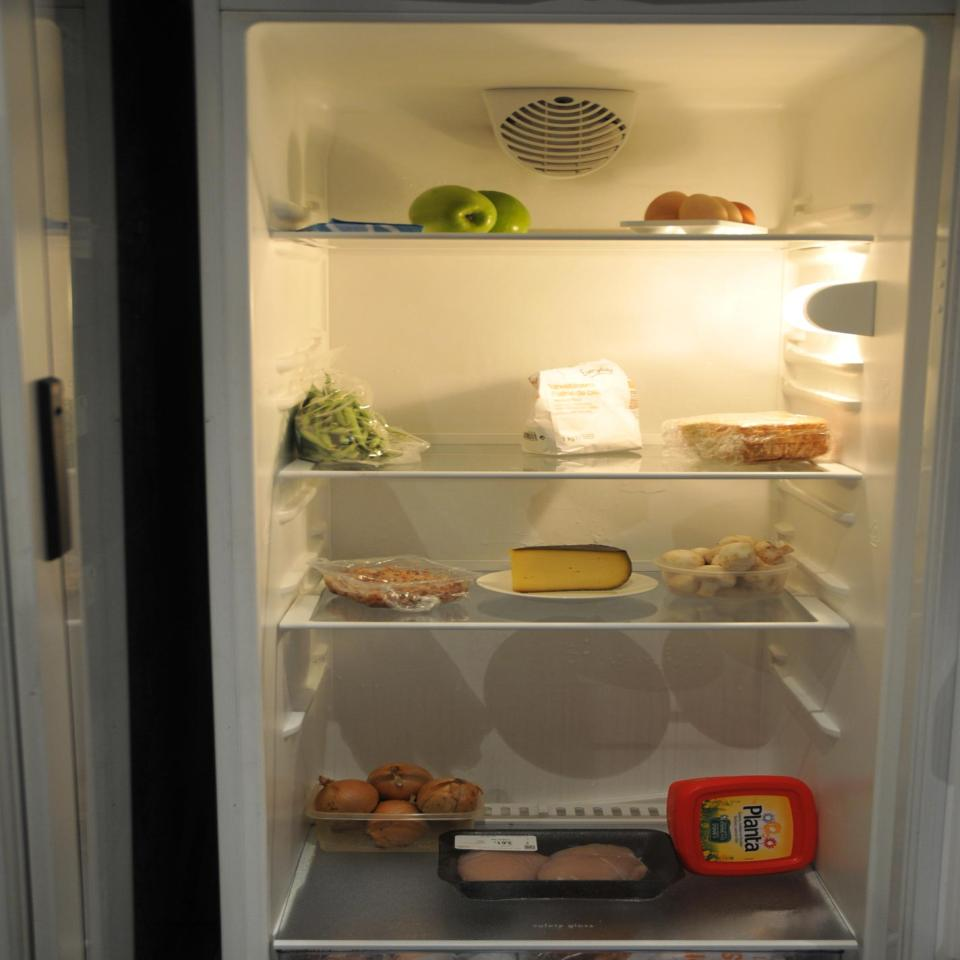Carne pollo: (458, 836, 660, 892)
Huevos: (635, 184, 769, 232)
Mantequilla: (668, 775, 825, 878)
Manzana: (406, 183, 538, 237)
Queso: (503, 540, 634, 599)
